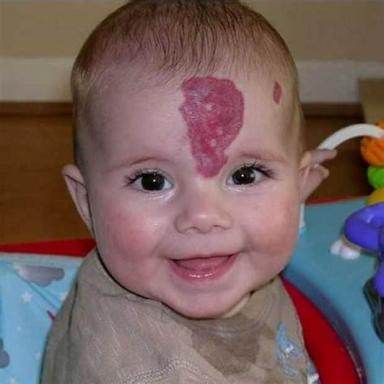Hemangiome: (179, 77, 244, 177), (273, 81, 282, 104)
